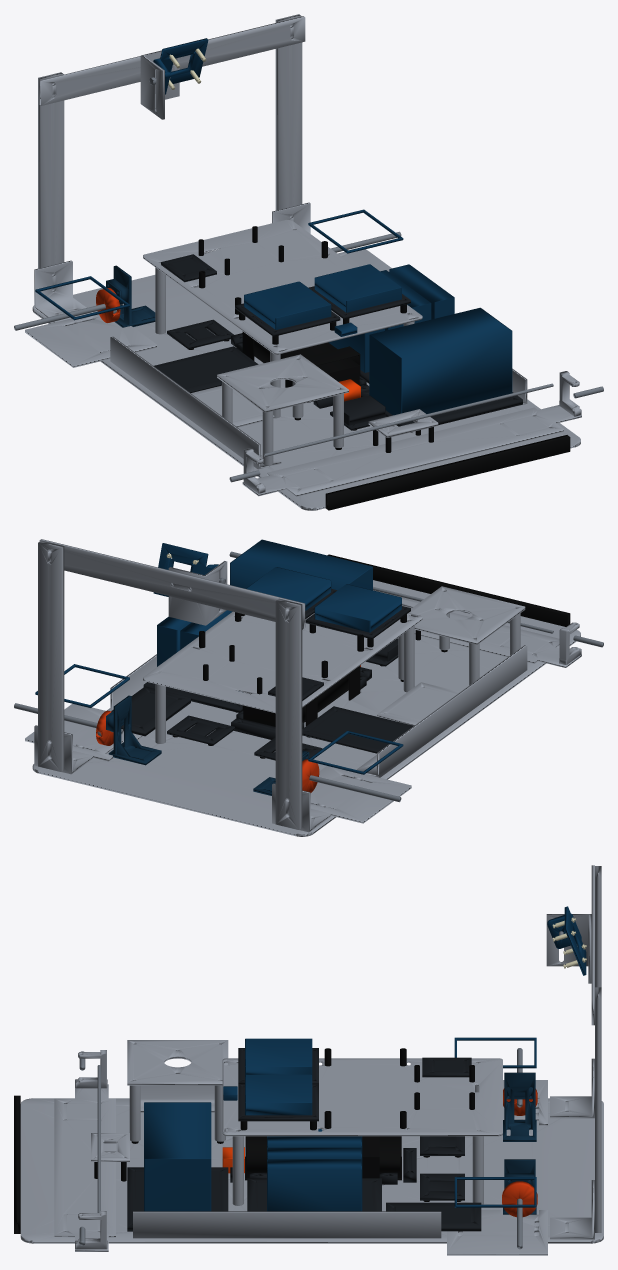
Rendered from drone-v3-structure.glb.
The picture shows the model from 3 angles, top to bottom: view 1: azimuth 30°, elevation 25°; view 2: azimuth 150°, elevation 25°; view 3: azimuth 270°, elevation 25°; orthographic projection. The views are drawn at different scales.
Parts seen in each view (by area): view 1: C01_1, F0_LFT_JLLN50_reserve_NON_CAO, C02_1, C03_1, C19_1, C18_2, C18_1, S02_bumper_EVA260x15x6, C07_1, L01_longeron_-1, C04G_1, EVM60_reserve_38 (+23 smaller); view 2: C01_1, C02_1, C18_1, C18_2, C19_1, L01_longeron_-1, F0_LFT_JLLN50_reserve_NON_CAO, C07_1, C04G_1, C14_1, EVM60_reserve_-38, S02_bumper_EVA260x15x6 (+25 smaller); view 3: C01_1, C02_1, L01_longeron_1, C03_1, F0_LFT_JLLN50_reserve_NON_CAO, FAUX_KLKD1_reserve_NON_CAO, C07_1, C04D_1, EVM60_reserve_38, EVM60_reserve_-38, HALL_G_P01_Equerre_fourche, C18_2 (+30 smaller).
Boxes of the visible parts, x1=… form: C01_1: x1=32, y1=275, x2=580, y2=510; F0_LFT_JLLN50_reserve_NON_CAO: x1=369, y1=307, x2=512, y2=415; C02_1: x1=143, y1=219, x2=422, y2=354; C03_1: x1=242, y1=405, x2=581, y2=496; C19_1: x1=39, y1=16, x2=305, y2=105; C18_2: x1=275, y1=14, x2=302, y2=217; C18_1: x1=38, y1=72, x2=64, y2=291; S02_bumper_EVA260x15x6: x1=325, y1=435, x2=570, y2=510; C07_1: x1=217, y1=354, x2=348, y2=412; L01_longeron_-1: x1=110, y1=336, x2=281, y2=469; C04G_1: x1=25, y1=314, x2=156, y2=367; EVM60_reserve_38: x1=314, y1=264, x2=401, y2=312; C01_1: x1=32, y1=580, x2=580, y2=836; C02_1: x1=143, y1=611, x2=422, y2=713; C18_1: x1=275, y1=598, x2=302, y2=829; C18_2: x1=38, y1=540, x2=64, y2=771; C19_1: x1=39, y1=539, x2=305, y2=628; L01_longeron_-1: x1=356, y1=645, x2=527, y2=777; F0_LFT_JLLN50_reserve_NON_CAO: x1=230, y1=539, x2=372, y2=590; C07_1: x1=409, y1=586, x2=525, y2=644; C04G_1: x1=310, y1=766, x2=411, y2=823; C14_1: x1=302, y1=706, x2=413, y2=753; EVM60_reserve_-38: x1=314, y1=584, x2=401, y2=632; S02_bumper_EVA260x15x6: x1=327, y1=554, x2=570, y2=626; C01_1: x1=20, y1=1098, x2=603, y2=1243; C02_1: x1=222, y1=1058, x2=502, y2=1136; L01_longeron_1: x1=133, y1=1211, x2=441, y2=1238; C03_1: x1=54, y1=1084, x2=115, y2=1251; F0_LFT_JLLN50_reserve_NON_CAO: x1=144, y1=1102, x2=211, y2=1211; FAUX_KLKD1_reserve_NON_CAO: x1=267, y1=1159, x2=362, y2=1211; C07_1: x1=127, y1=1040, x2=228, y2=1085; C04D_1: x1=447, y1=1210, x2=547, y2=1255; EVM60_reserve_38: x1=245, y1=1074, x2=312, y2=1115; EVM60_reserve_-38: x1=245, y1=1038, x2=312, y2=1074; HALL_G_P01_Equerre_fourche: x1=503, y1=1072, x2=536, y2=1141; C18_2: x1=595, y1=987, x2=601, y2=1232.
Bounding box in the file's own units: 0.414 × 0.2519 × 0.526.
